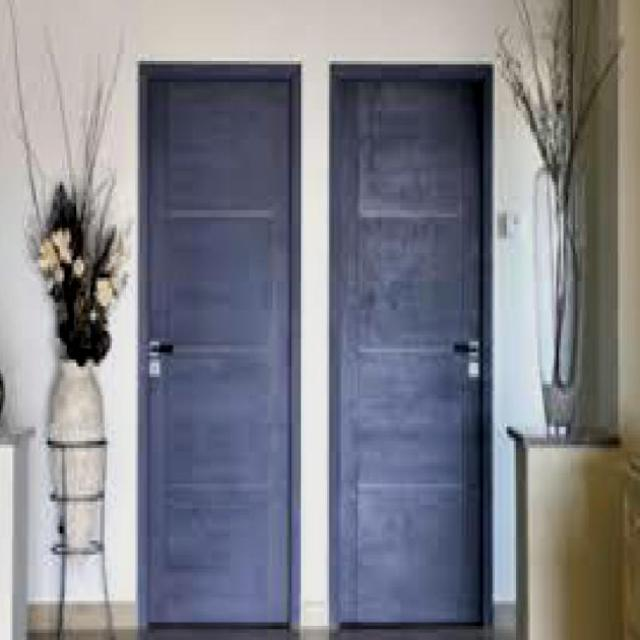door: (137, 61, 297, 630), (328, 63, 489, 628)
